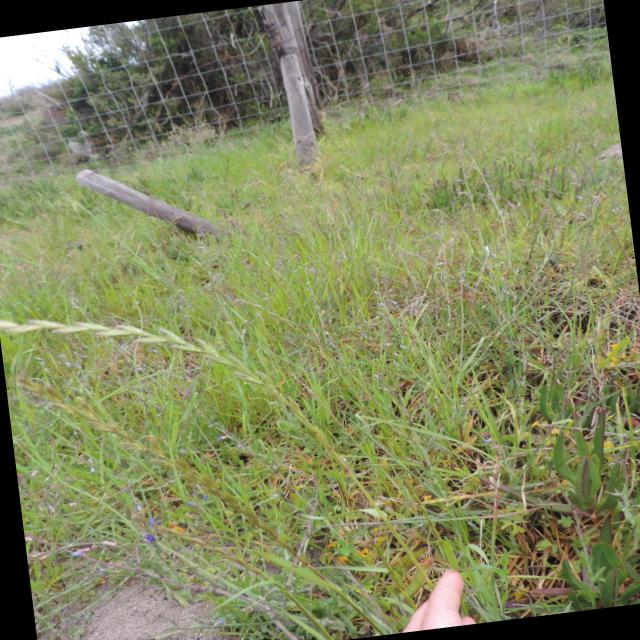Lolium: (0, 272, 349, 510), (17, 344, 296, 584), (146, 509, 262, 588)
